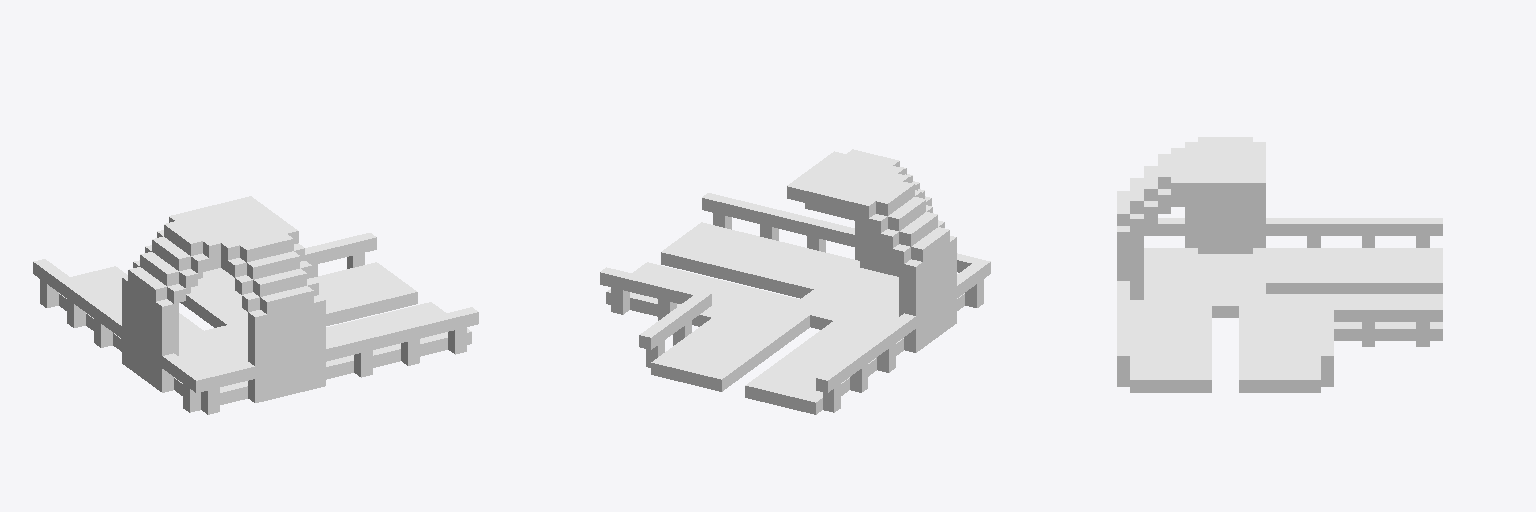
The model's file is roadCorner.obj.
3 views of the same model, side by side, from view 1: azimuth 30°, elevation 25°; view 2: azimuth 150°, elevation 25°; view 3: azimuth 270°, elevation 25° (orthographic).
Parts seen in each view (by area): view 1: object 1; view 2: object 1; view 3: object 1.
Boxes of the visible parts, x1,y1,x2,y2 form: object 1: [33, 196, 478, 414]; object 1: [600, 149, 990, 414]; object 1: [1117, 137, 1442, 392].
Bounding box in the file's own units: 2.4 × 1.1 × 2.4.